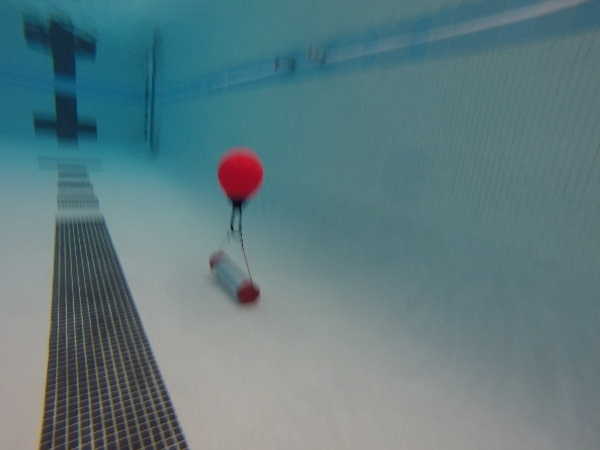buoy_red: (215, 148, 266, 212)
